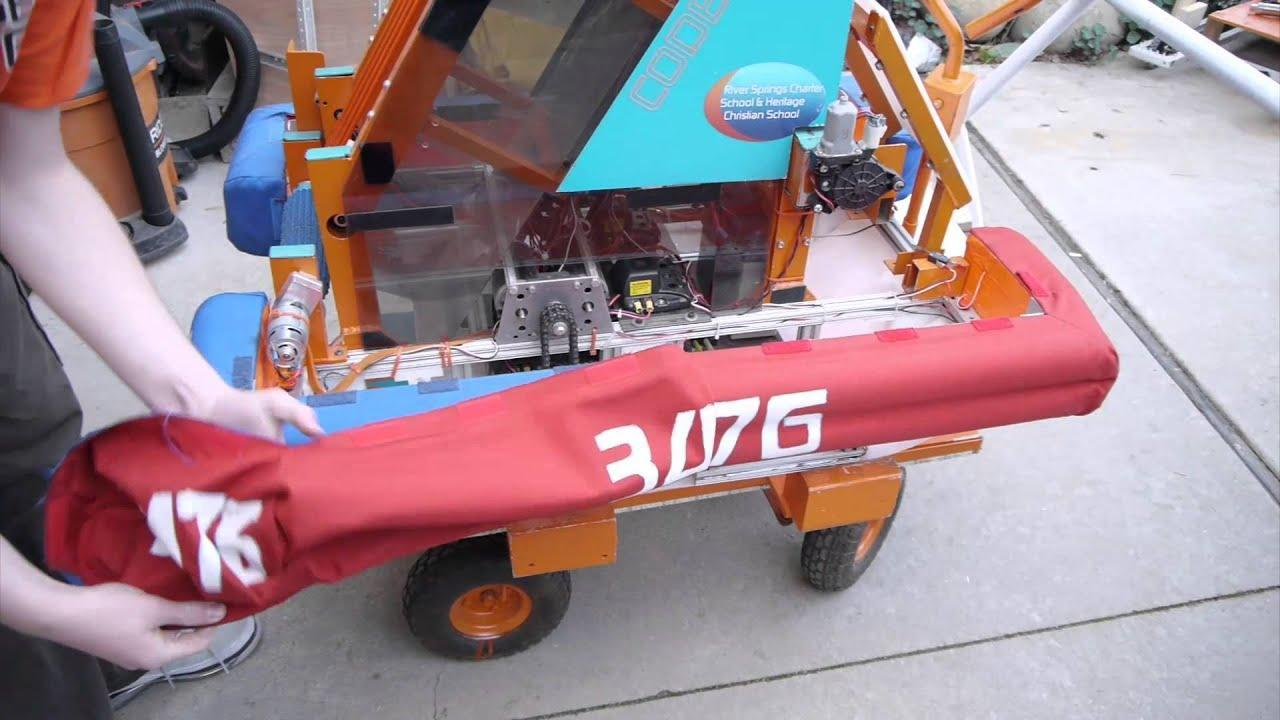robot: (63, 0, 1120, 628)
